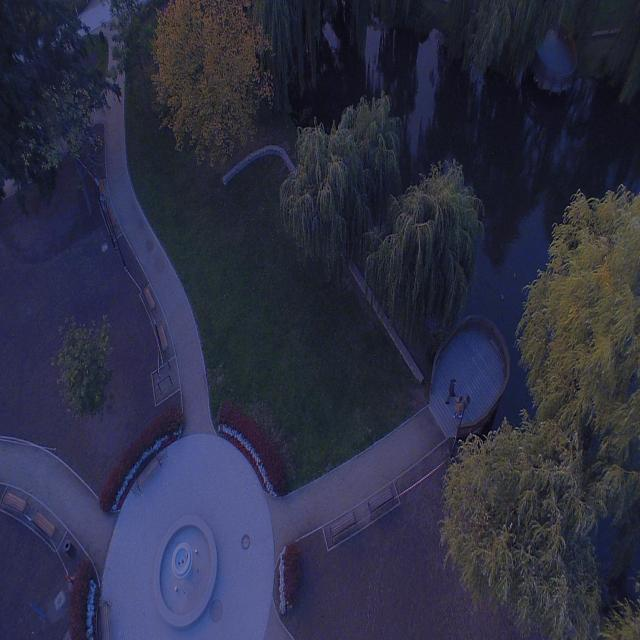p3rson: (446, 379, 457, 404), (453, 396, 464, 419)
